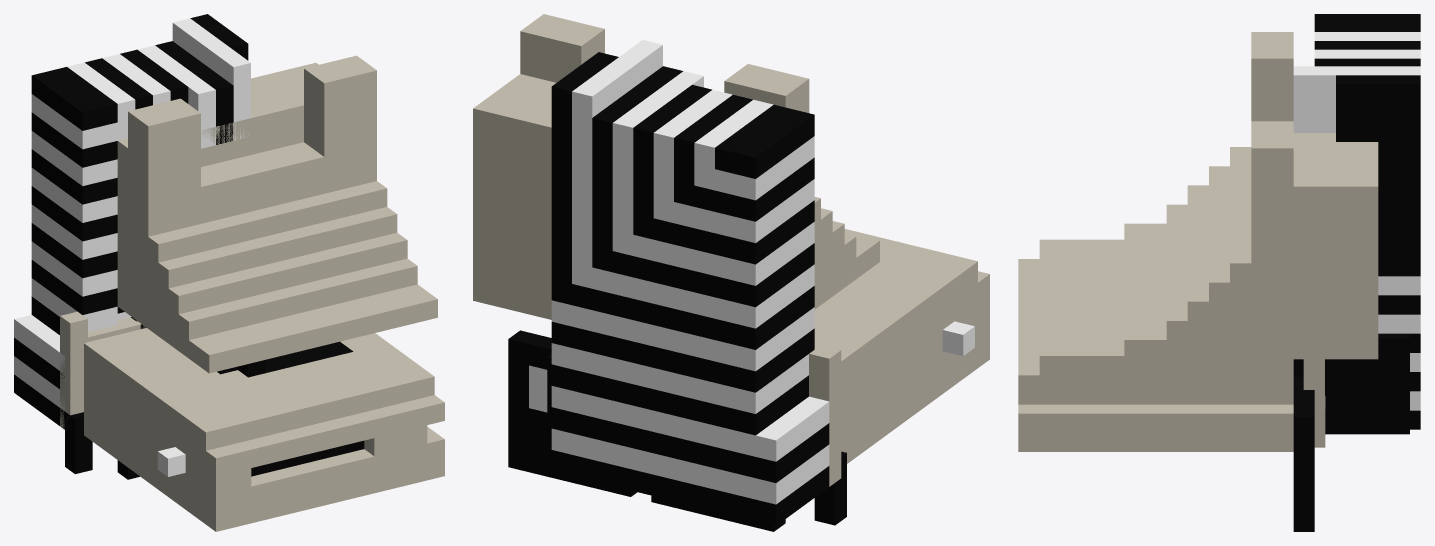
Rendered from zebra.glb.
3 views of the same model, side by side, from view 1: azimuth 30°, elevation 25°; view 2: azimuth 150°, elevation 25°; view 3: azimuth 270°, elevation 25° (orthographic). The views are drawn at different scales.
Parts seen in each view (by area): view 1: base-2, base, hair, hear, layer-1, hear-top, monture, hair-right, nose, layer-2, hair-corner, baseExtra; view 2: hair, base-2, base, monture, glass (2), hair-right, hear-top, layer-1, hair-corner, baseExtra, hair-top, hair-back; view 3: base-2, base, hair, nose, monture, hear-top, hair-back, hair-top, layer-2, hair-right, layer-1, layer-0.
Part boxes in pixels (x1,y1,x2,y2): base-2: (117, 55, 437, 373); base: (84, 328, 444, 531); hair: (14, 14, 250, 429); hear: (156, 67, 359, 195); layer-1: (60, 311, 145, 429); hear-top: (128, 56, 376, 144); monture: (65, 412, 139, 479); hair-right: (32, 71, 99, 314); nose: (217, 341, 353, 377); layer-2: (60, 317, 146, 428); hair-corner: (14, 71, 48, 398); baseExtra: (157, 447, 185, 476); hair: (551, 40, 829, 525); base-2: (473, 14, 879, 319); base: (814, 229, 989, 463); monture: (508, 330, 846, 531); glass (2): (508, 339, 773, 530); hair-right: (735, 110, 812, 525); hear-top: (520, 14, 809, 108); layer-1: (809, 345, 841, 476); hair-corner: (738, 144, 787, 524); baseExtra: (942, 321, 974, 355); hair-top: (551, 87, 694, 160); hair-back: (552, 78, 766, 156); base-2: (1124, 32, 1378, 359); base: (1018, 239, 1293, 451); hair: (1293, 14, 1420, 429); nose: (1293, 333, 1409, 434); monture: (1293, 376, 1314, 531); hear-top: (1251, 32, 1293, 167); hair-back: (1399, 15, 1420, 429); hair-top: (1336, 84, 1420, 122); layer-2: (1303, 359, 1324, 447); hair-right: (1314, 14, 1420, 22); layer-1: (1303, 359, 1324, 447); layer-0: (1314, 396, 1325, 447).
Size of the model in its own units: 16.5 by 21 by 19.
9 materials, 9 textured.
